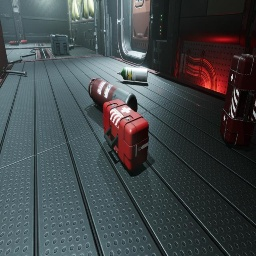0: (117, 67, 148, 82)
FireExtinguisher ]: (8, 41, 19, 45), (19, 40, 28, 44)
FirstAidBox ,: (103, 99, 149, 172), (220, 54, 256, 147)
NitrogenTank ,: (88, 78, 138, 112)
